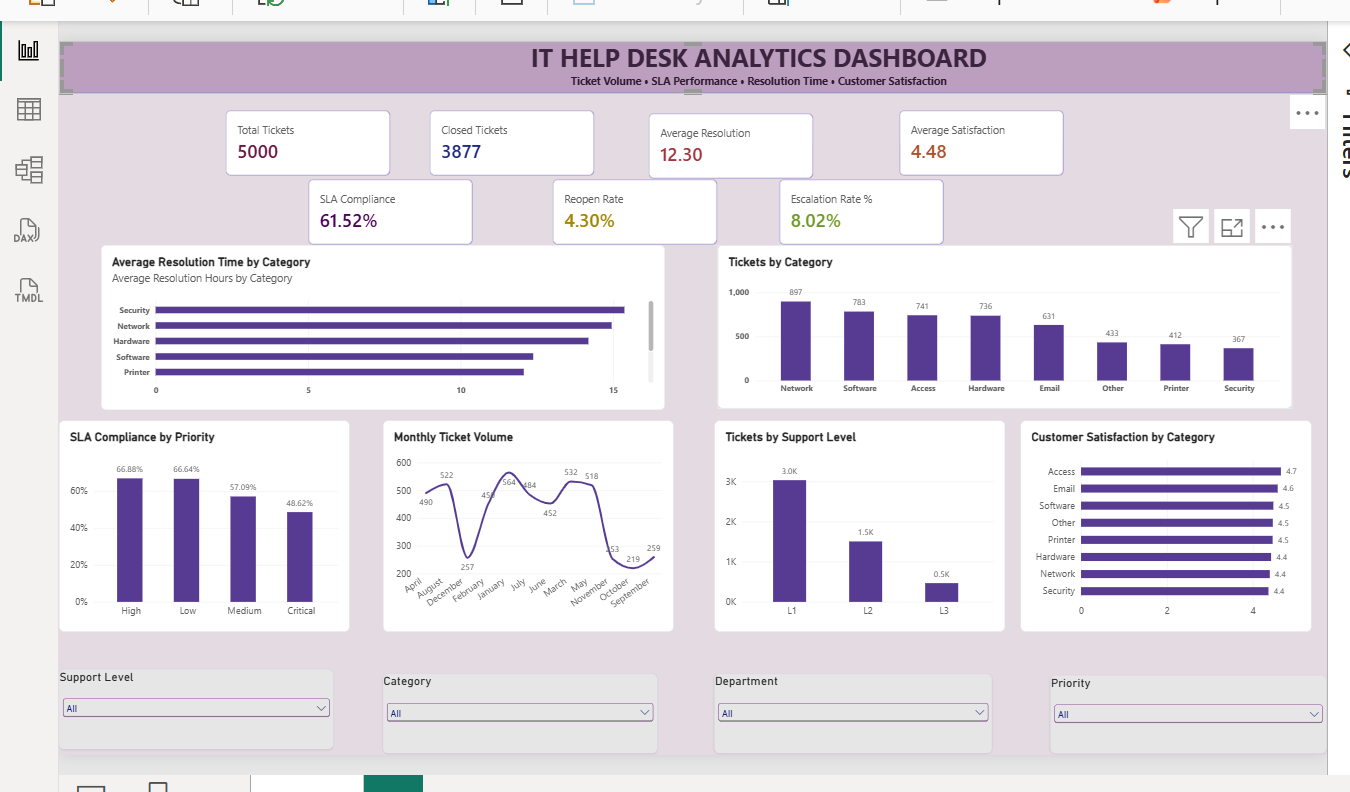

This screenshot's page, from the dashboard's own definition file:
{"tool":"powerbi","page":{"name":"Page 1","canvas":[1920,1080],"ordinal":0},"visuals":[{"type":"cardVisual","title":"Total Tickets","fields":{"Data":["CountNonNull(it_helpdesk helpdesk_tickets.Ticket_ID)"]},"box":[252.1,104.5,250,100],"z":0},{"type":"cardVisual","title":"Closed Tickets","fields":{"Data":["helpdesk_tickets.Closed Tickets"]},"box":[561,104.5,250,100],"z":1000},{"type":"cardVisual","title":"Avg_Resolution_hrs","fields":{"Data":["helpdesk_tickets.Average Resolution Hours"]},"box":[892.6,109,250,100],"z":2000},{"type":"cardVisual","title":"Avg_Satisfaction_Score","fields":{"Data":["helpdesk_tickets.Average Satisfaction"]},"box":[1271.9,104.5,250,100],"z":3000},{"type":"cardVisual","title":"SLA_compliance %","fields":{"Data":["helpdesk_tickets.SLA Compliance %"]},"box":[377,209,250,100],"z":4000},{"type":"cardVisual","title":"Reapon_rate %","fields":{"Data":["helpdesk_tickets.Reopen Rate %"]},"box":[747.3,209,250,100],"z":5000},{"type":"cardVisual","title":"Escalation_rate %","fields":{"Data":["helpdesk_tickets.Escalation Rate %"]},"box":[1090.2,209,250,100],"z":6000},{"type":"clusteredColumnChart","title":"Tickets by Category","fields":{"Category":["helpdesk_tickets.Category"],"Y":["CountNonNull(helpdesk_tickets.Ticket_ID)"]},"box":[997.1,308.9,869.9,247.6],"z":7000},{"type":"clusteredBarChart","title":"Average Resolution Time by Category","fields":{"Category":["helpdesk_tickets.Category"],"Y":["helpdesk_tickets.Average Resolution Hours"]},"box":[63.6,308.9,854,249.8],"z":8000},{"type":"clusteredColumnChart","title":"SLA Compliance by Priority","fields":{"Category":["helpdesk_tickets.Priority"],"Y":["helpdesk_tickets.SLA Compliance %"]},"box":[0,574.6,440,320],"z":9000},{"type":"clusteredColumnChart","title":"Tickets by Support Level","fields":{"Category":["helpdesk_tickets.Support_Level"],"Y":["CountNonNull(helpdesk_tickets.Ticket_ID)"]},"box":[992.6,574.6,440,320],"z":10000},{"type":"lineChart","title":"Monthly Ticket Volume","fields":{"Category":["helpdesk_tickets.Month_Name"],"Y":["CountNonNull(helpdesk_tickets.Ticket_ID)"]},"box":[490.6,574.6,440,320],"z":11000},{"type":"slicer","title":"Priority","fields":{"Values":["helpdesk_tickets.Priority"]},"box":[1501.3,960.8,417.9,118.1],"z":12000},{"type":"slicer","title":"Department","fields":{"Values":["helpdesk_tickets.Department"]},"box":[992.6,958.5,420,120],"z":13000},{"type":"slicer","title":"Category","fields":{"Values":["helpdesk_tickets.Category"]},"box":[490.6,958.5,415,120],"z":14000},{"type":"slicer","title":"Support Level","fields":{"Values":["helpdesk_tickets.Support_Level"]},"box":[0,951.7,415.6,120.4],"z":15000},{"type":"clusteredBarChart","title":"Customer Satisfaction by Category","fields":{"Category":["helpdesk_tickets.Category"],"Y":["Avg(helpdesk_tickets.Satisfaction_Score)"]},"box":[1455.9,574.6,440.6,320],"z":16000},{"type":"textbox","box":[685.9,0,747.3,104.5],"z":17000},{"type":"shape","box":[0,0,1919.3,79.5],"z":17001}]}

Visuals, with their boxes on the page's 1920x1080 design canvas (x1, y1, x2, y2). These are canvas units, not pixel positions in the 1350x792 screenshot, which may show the page scaled, cropped or inside an application window:
"Total Tickets" cardVisual: left=252, top=104, right=502, bottom=204
"Closed Tickets" cardVisual: left=561, top=104, right=811, bottom=204
"Avg_Resolution_hrs" cardVisual: left=893, top=109, right=1143, bottom=209
"Avg_Satisfaction_Score" cardVisual: left=1272, top=104, right=1522, bottom=204
"SLA_compliance %" cardVisual: left=377, top=209, right=627, bottom=309
"Reapon_rate %" cardVisual: left=747, top=209, right=997, bottom=309
"Escalation_rate %" cardVisual: left=1090, top=209, right=1340, bottom=309
"Tickets by Category" clusteredColumnChart: left=997, top=309, right=1867, bottom=556
"Average Resolution Time by Category" clusteredBarChart: left=64, top=309, right=918, bottom=559
"SLA Compliance by Priority" clusteredColumnChart: left=0, top=575, right=440, bottom=895
"Tickets by Support Level" clusteredColumnChart: left=993, top=575, right=1433, bottom=895
"Monthly Ticket Volume" lineChart: left=491, top=575, right=931, bottom=895
"Priority" slicer: left=1501, top=961, right=1919, bottom=1079
"Department" slicer: left=993, top=958, right=1413, bottom=1078
"Category" slicer: left=491, top=958, right=906, bottom=1078
"Support Level" slicer: left=0, top=952, right=416, bottom=1072
"Customer Satisfaction by Category" clusteredBarChart: left=1456, top=575, right=1896, bottom=895
textbox: left=686, top=0, right=1433, bottom=104
shape: left=0, top=0, right=1919, bottom=80
